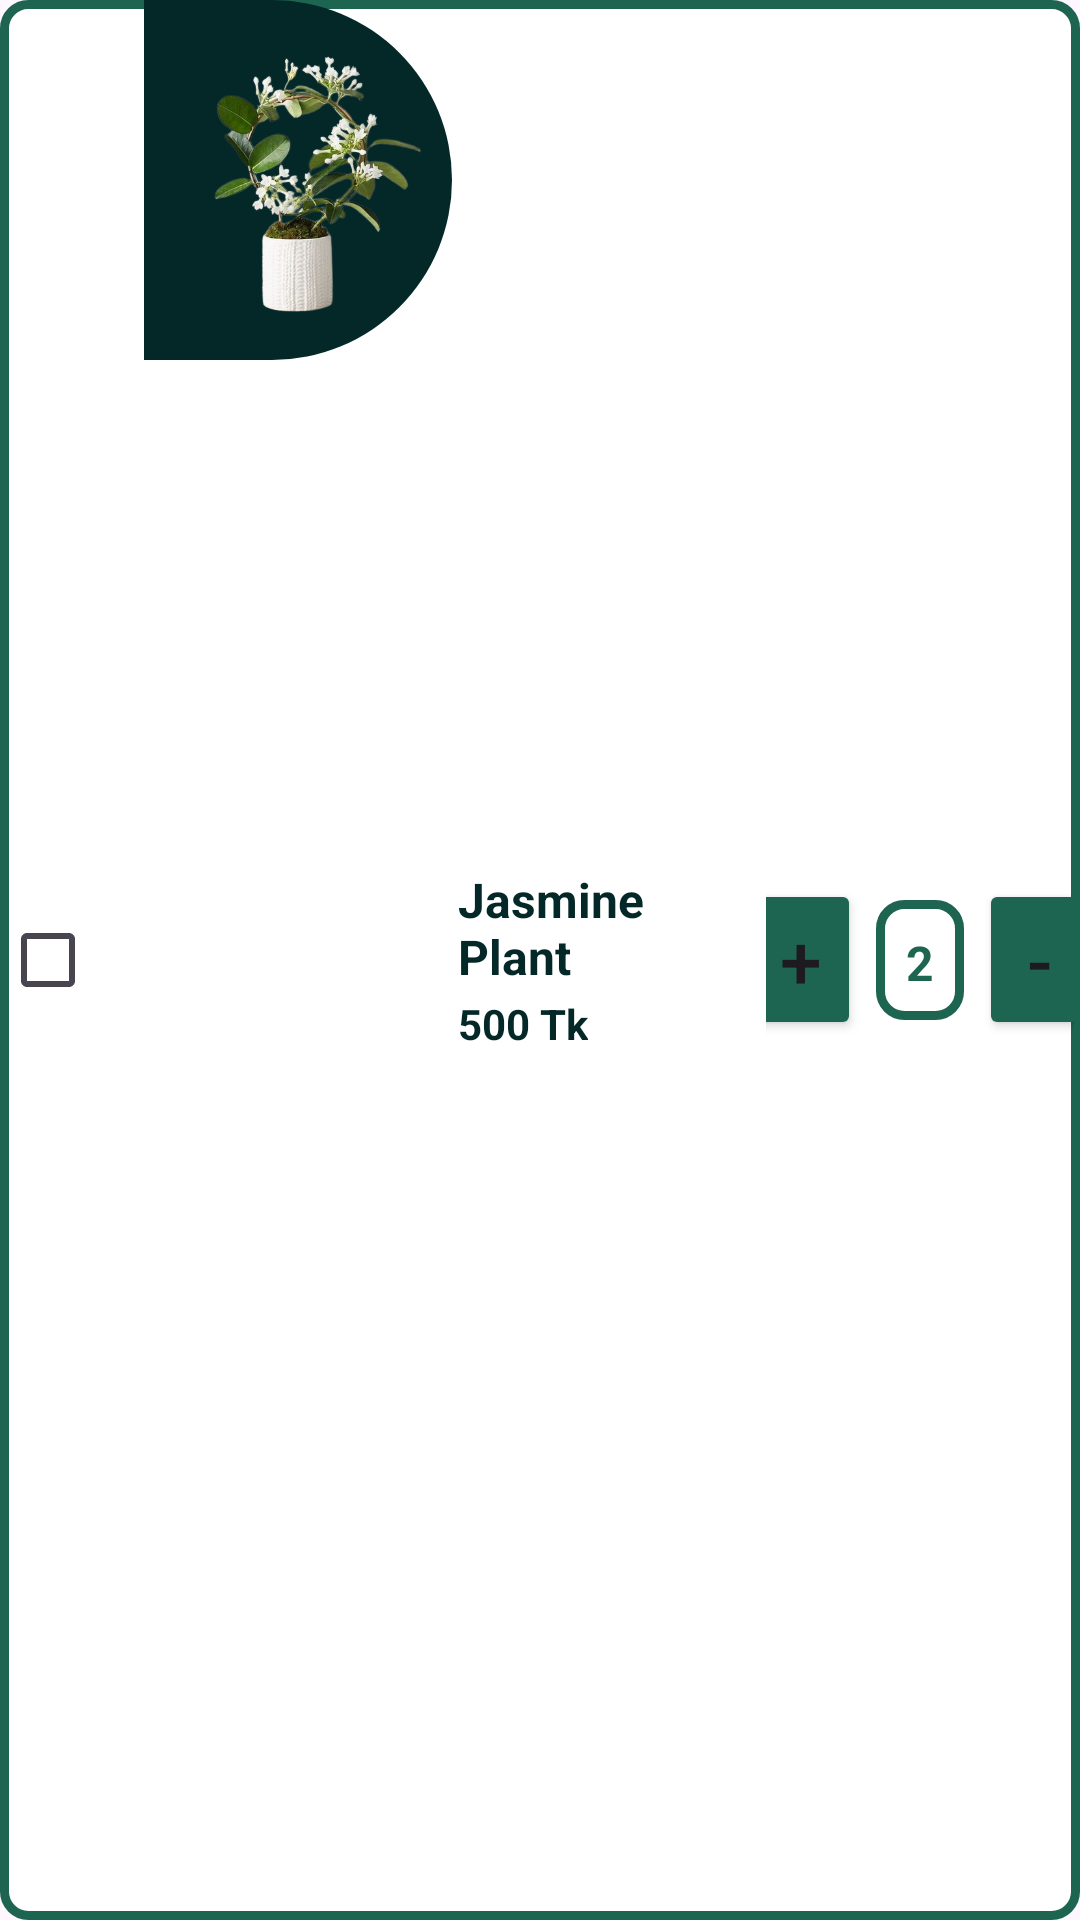

Where icons sit on this 1080×1920 app screen, as {"left": x1, "top": y1, "right": x2, "bottom": y2}:
jasmine: {"left": 144, "top": 0, "right": 452, "bottom": 360}
